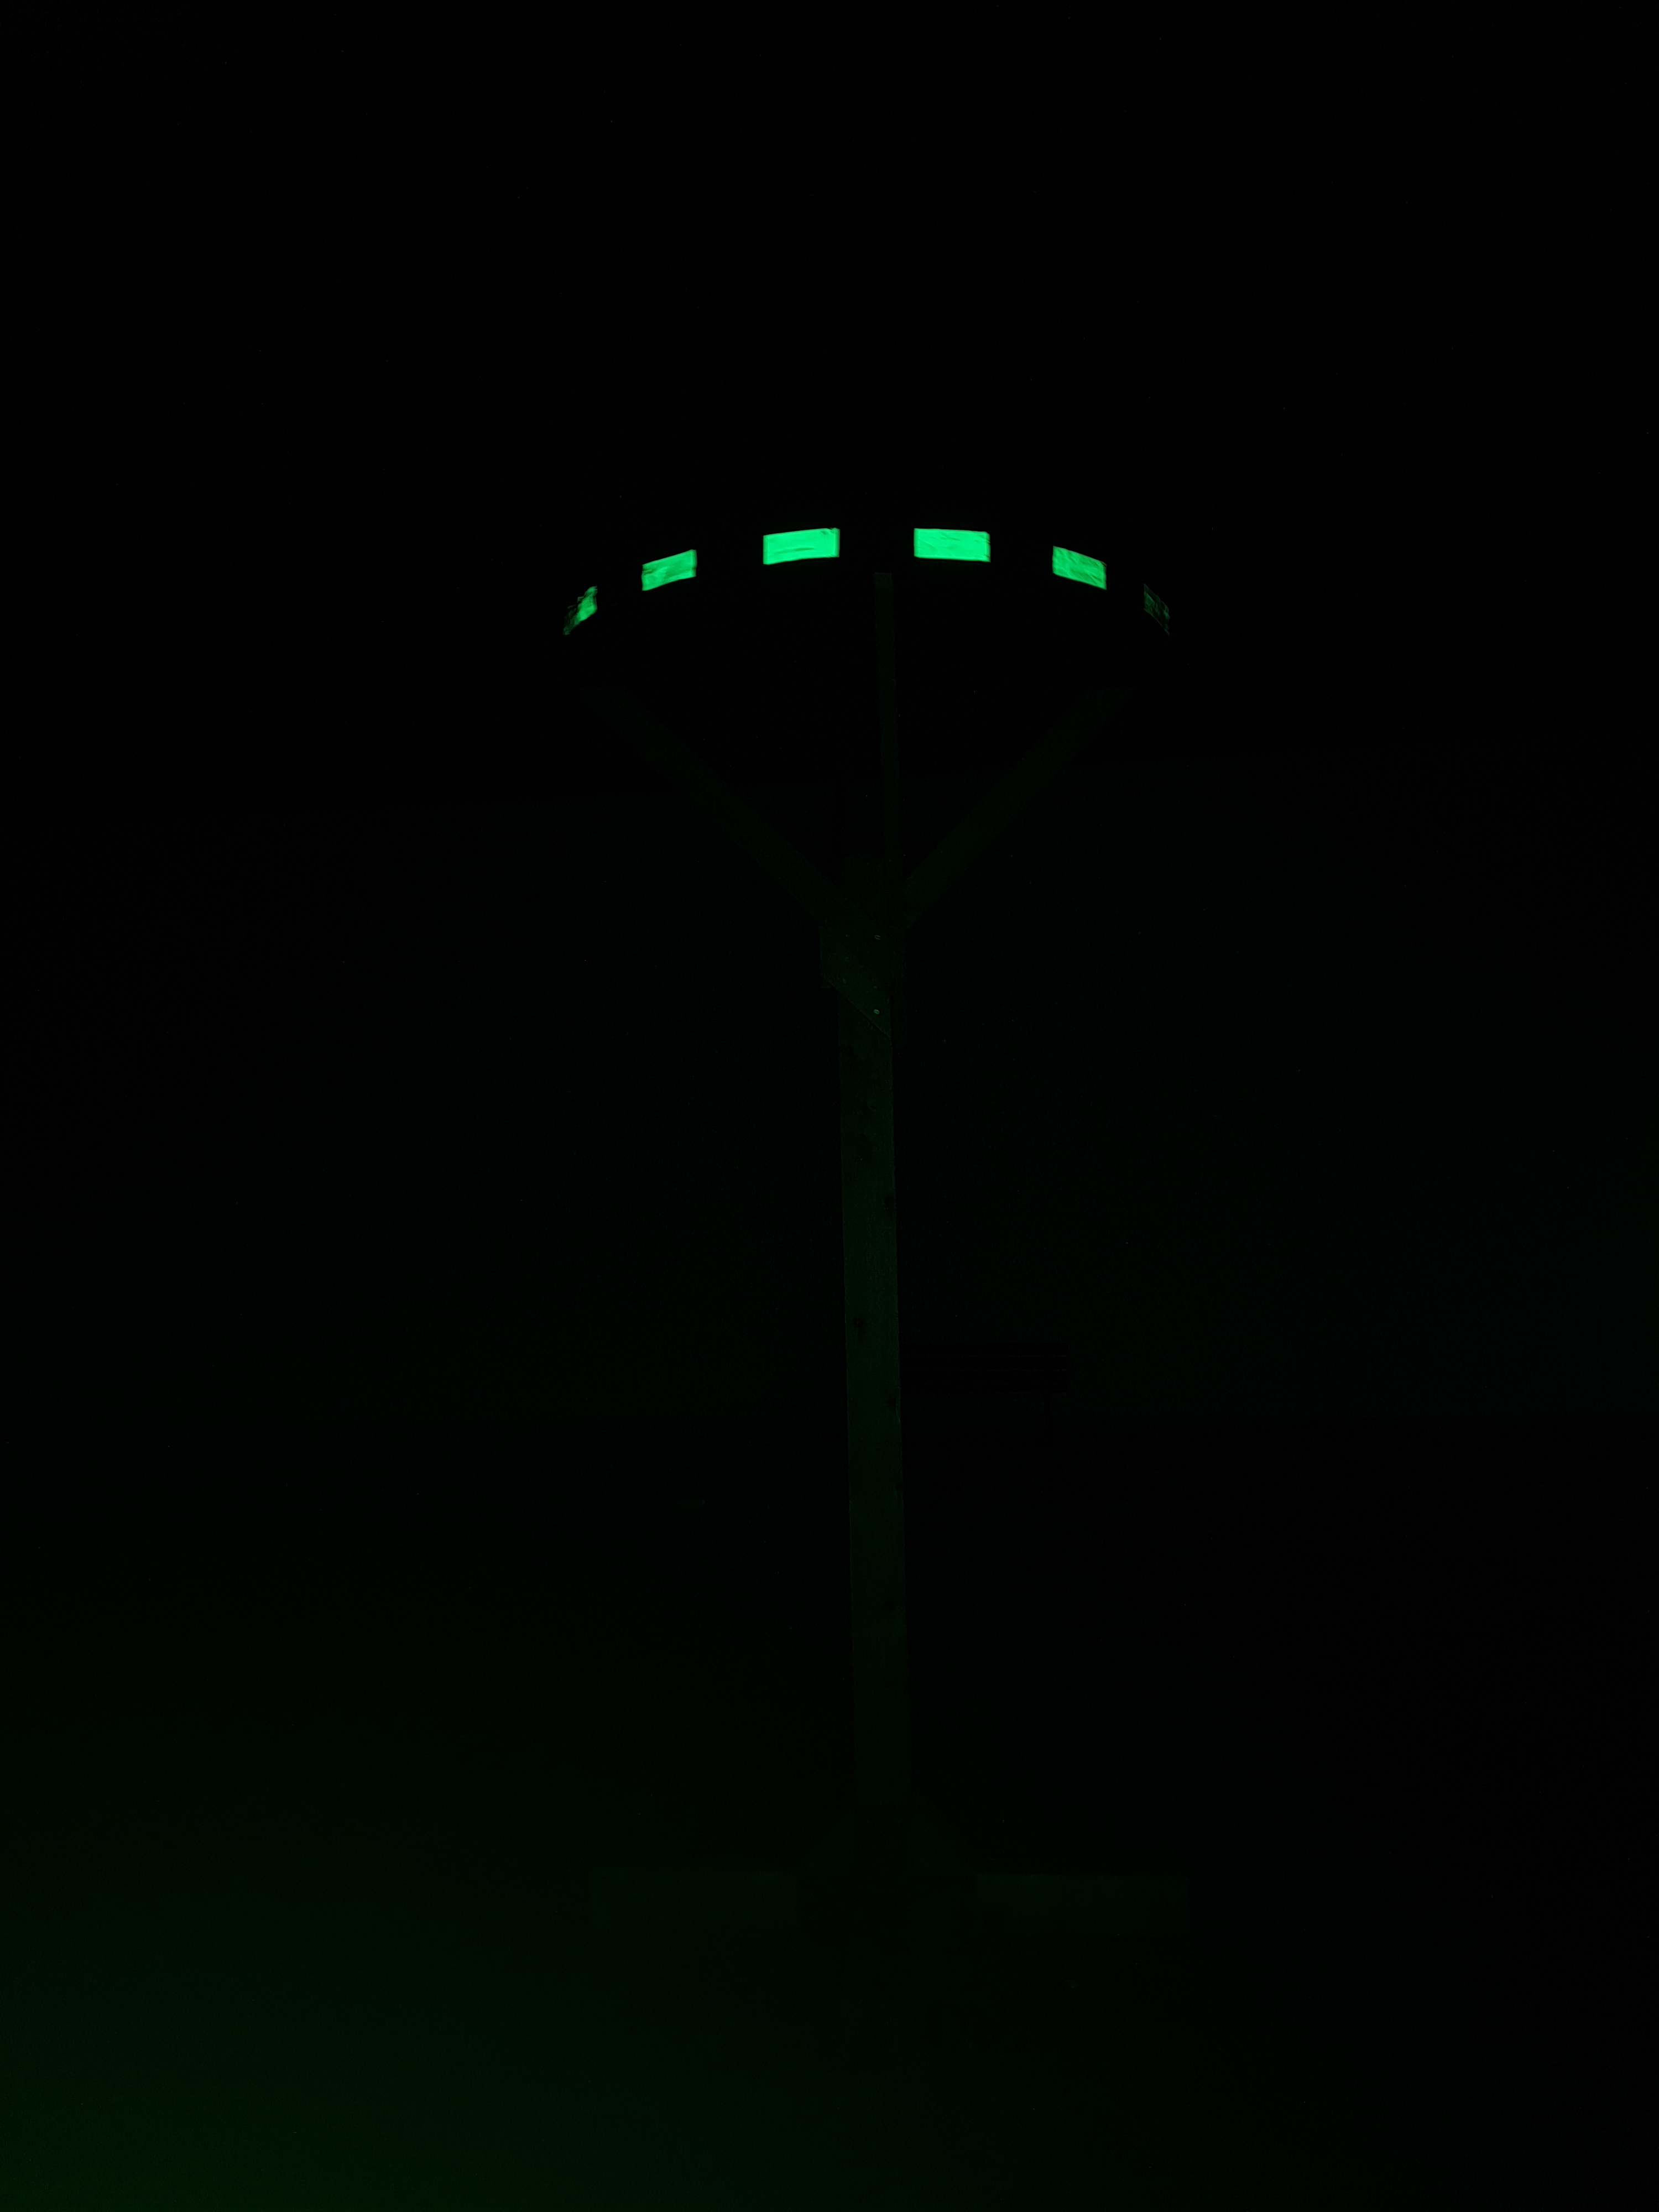hoop: (559, 517, 1178, 643)
